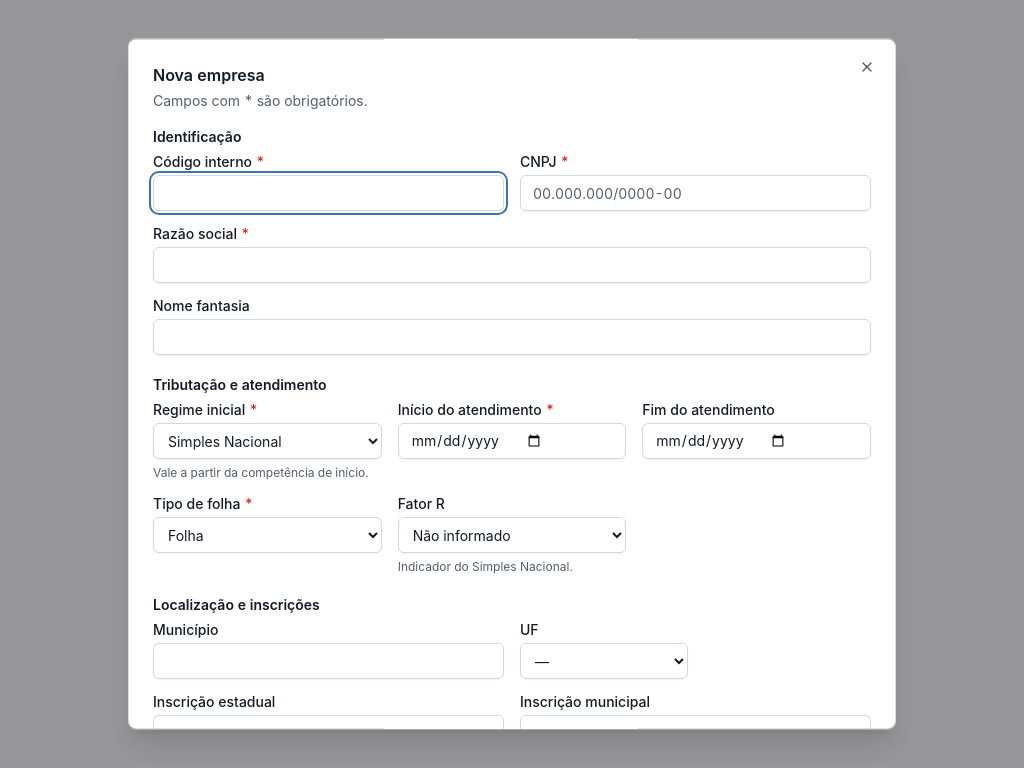
Test case: CompanyForm › mostra no campo o erro de validação devolvido pela API
Type "301" into the field labelled "Código interno *".
click(328, 193); type("301")  # box [153,175,504,211]
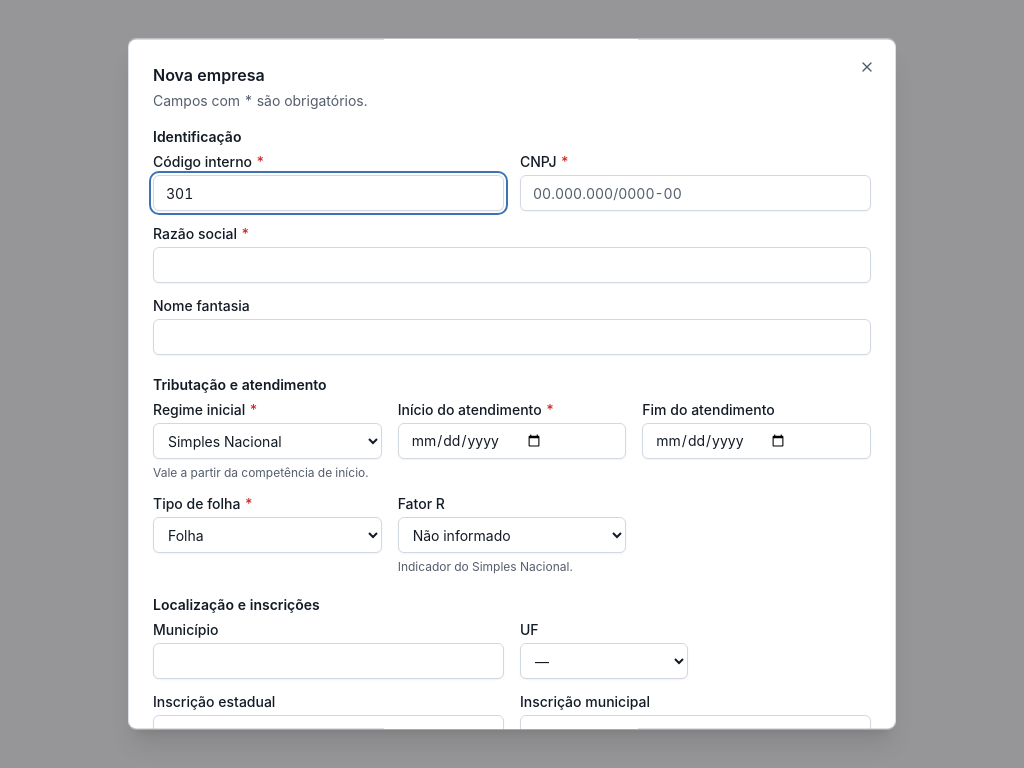
Type "11222333000181" into the field labelled "CNPJ *".
click(696, 193); type("11222333000181")  # box [520,175,871,211]
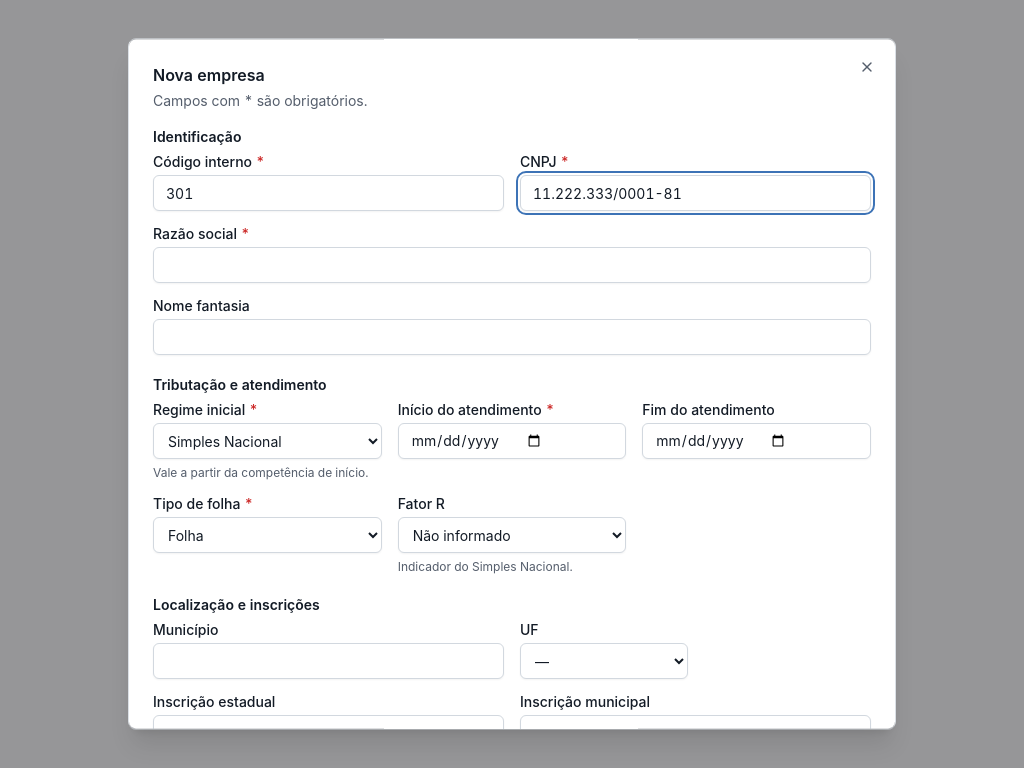
Type "Nova Empresa Ltda" into the field labelled "Razão social *".
click(512, 265); type("Nova Empresa Ltda")  # box [153,247,871,283]
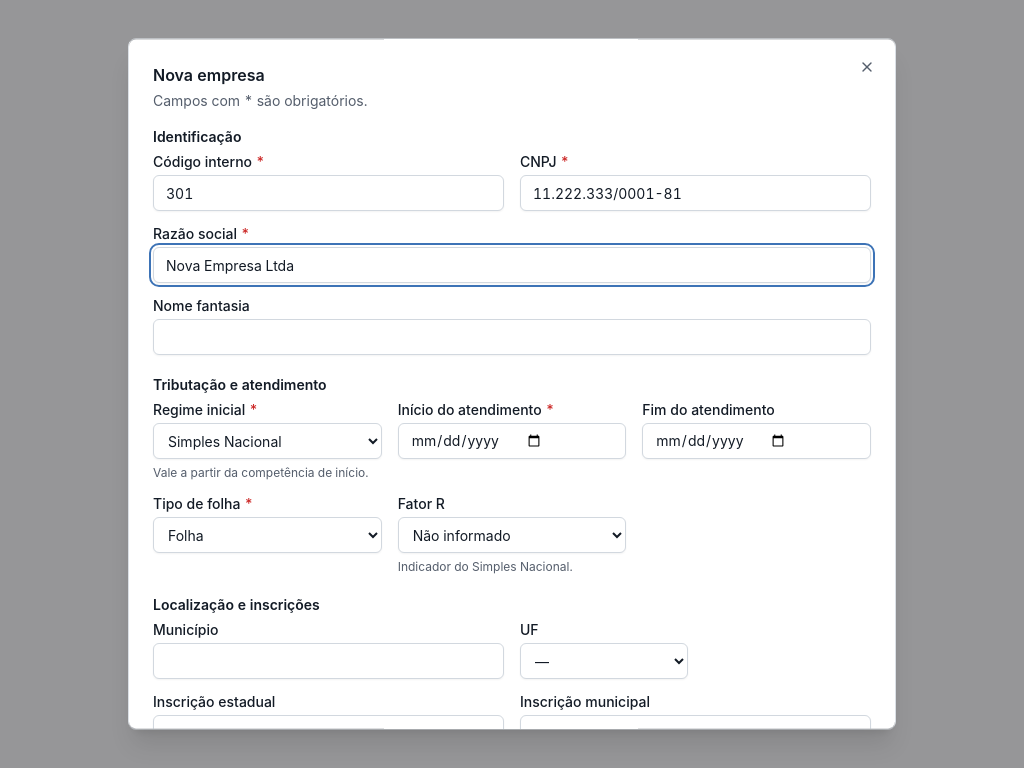
Type "2026-10-01" into the date field labelled "Início do atendimento *".
click(512, 441); type("2026-10-01")  # box [398,423,626,459]
(page scrolled)
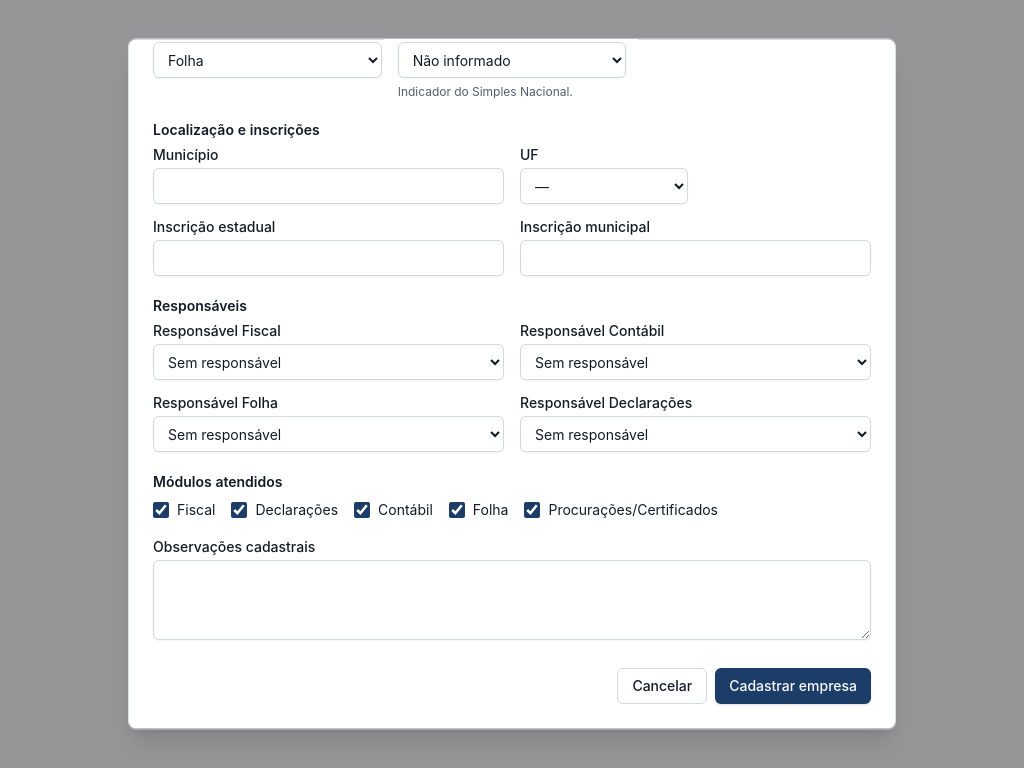
Click the button "Cadastrar empresa".
click(793, 686)  # box [715,668,871,704]
(page scrolled)
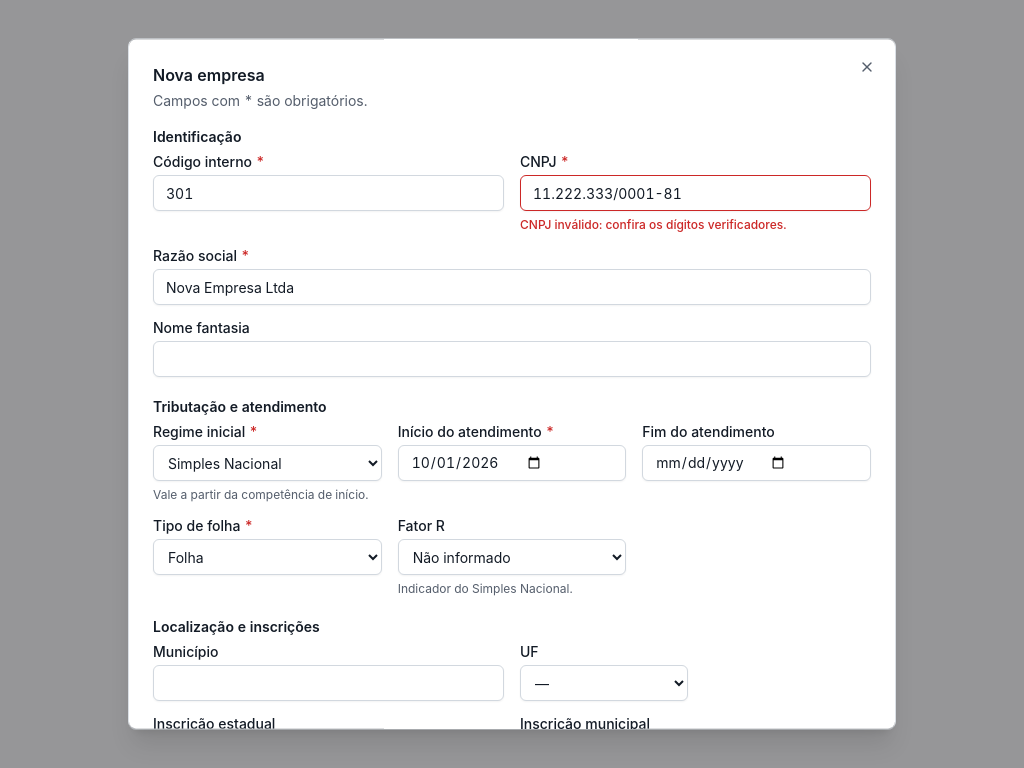
Expected: the text "CNPJ inválido: confira os dígitos verificadores." is shown, [520,217,786,232]
